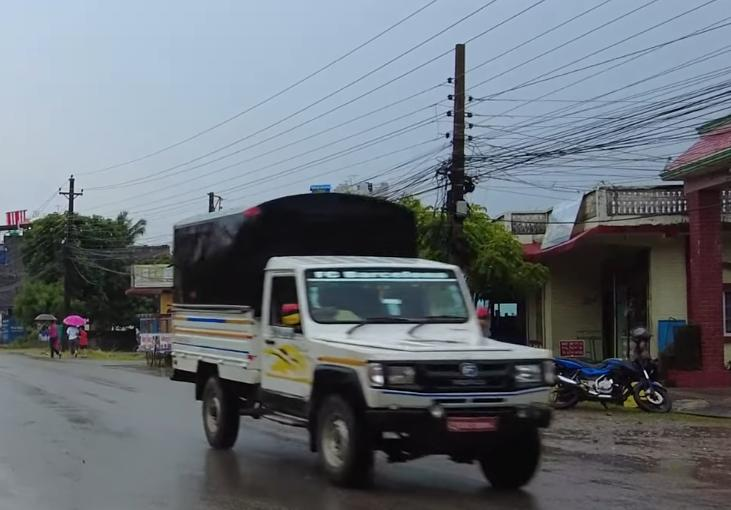bike: (549, 334, 682, 419)
transport_vehicle: (170, 185, 575, 495)
